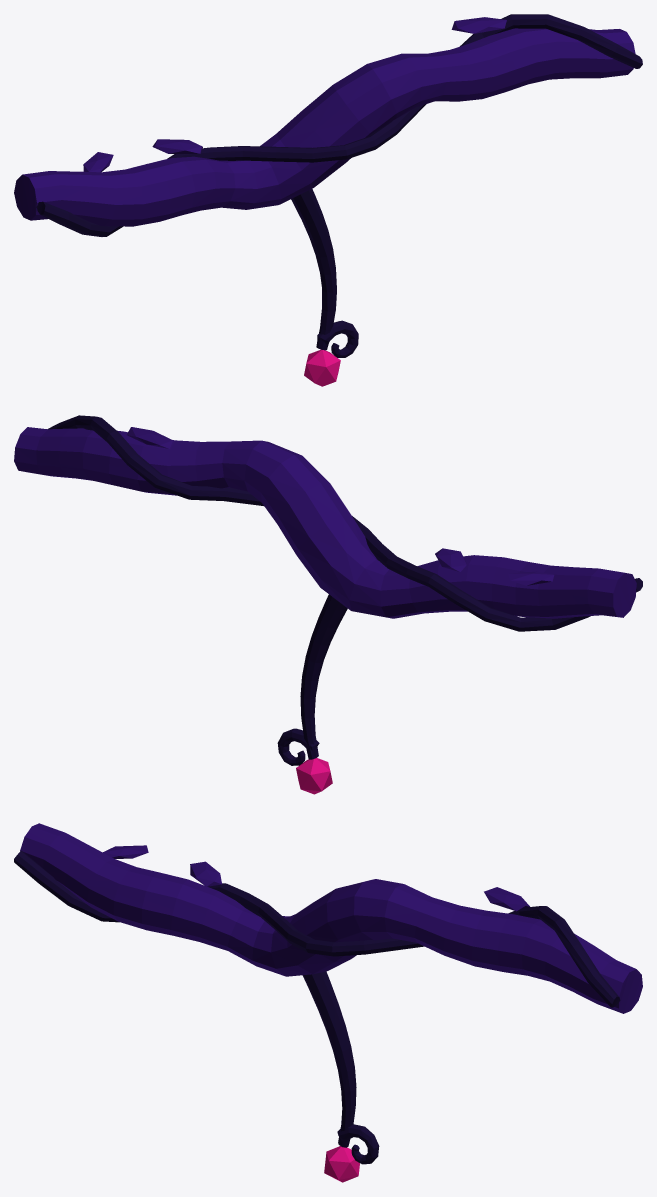
Rendered from AlienV2_Run_Root_B.fbx.
The picture shows the model from 3 angles, top to bottom: view 1: azimuth 30°, elevation 25°; view 2: azimuth 150°, elevation 25°; view 3: azimuth 330°, elevation 25°; orthographic projection.
Visible parts, largest first — view 1: AlienV2_Run_Root_B; view 2: AlienV2_Run_Root_B; view 3: AlienV2_Run_Root_B.
Part boxes in pixels (<box>): AlienV2_Run_Root_B: <box>14,14,642,386</box>; AlienV2_Run_Root_B: <box>14,415,642,794</box>; AlienV2_Run_Root_B: <box>14,823,642,1182</box>.
Bounding box in the file's own units: 1 × 0.5171 × 0.1381.
